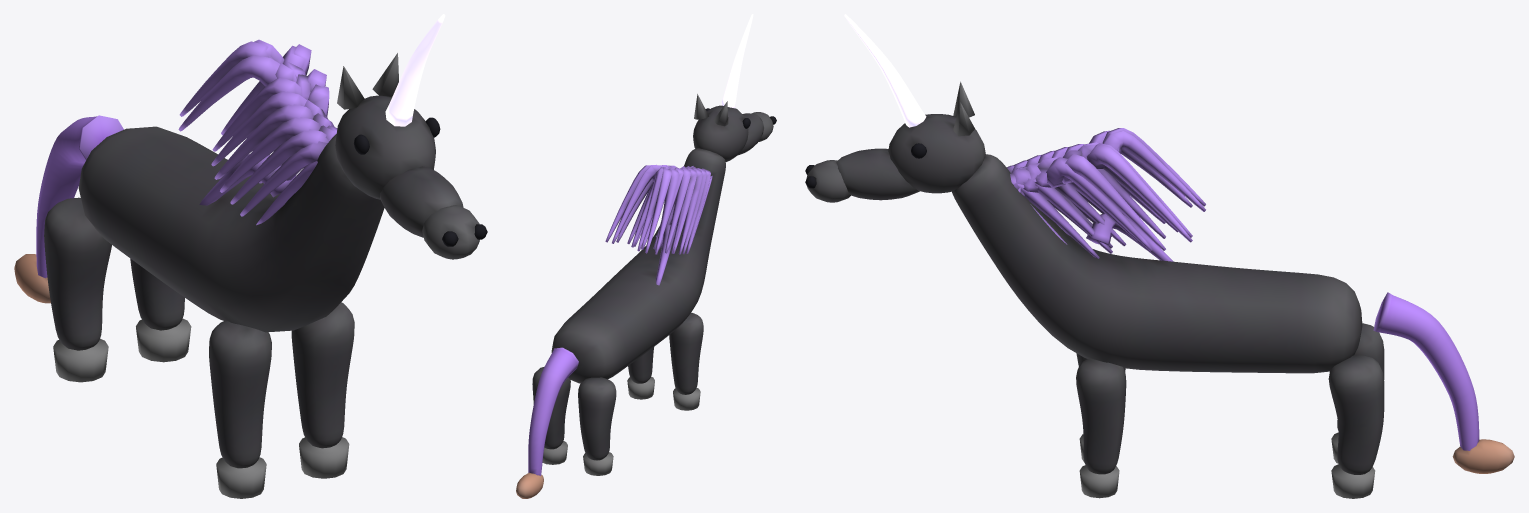
The picture shows the model from 3 angles, left to right: view 1: azimuth 30°, elevation 25°; view 2: azimuth 150°, elevation 25°; view 3: azimuth 270°, elevation 25°; orthographic projection. The views are drawn at different scales.
Parts seen in each view (by area): view 1: torso, head, mane, legBR, legFR, legFL, tail, legBL; view 2: torso, mane, head, tail, legBR, legFR, legBL, legFL; view 3: torso, mane, head, tail, legBL, legFL, legBR.
Boxes of the visible parts, x1,y1,x2,y2 form: torso: (78, 126, 384, 332); head: (335, 14, 487, 259); mane: (178, 39, 337, 225); legBR: (44, 197, 111, 382); legFR: (209, 321, 271, 498); legFL: (291, 302, 354, 478); tail: (14, 115, 123, 303); legBL: (130, 258, 191, 362); torso: (551, 148, 725, 383); mane: (605, 164, 712, 285); head: (693, 14, 776, 161); tail: (516, 347, 578, 498); legBR: (578, 377, 616, 475); legFR: (669, 312, 703, 410); legBL: (532, 366, 570, 464); legFL: (627, 347, 654, 399); torso: (952, 154, 1362, 373); mane: (1007, 128, 1205, 261); head: (805, 14, 985, 202); tail: (1373, 292, 1514, 473); legBL: (1328, 355, 1384, 498); legFL: (1076, 358, 1126, 498); legBR: (1331, 323, 1384, 463).
Bounding box in the file's own units: 0.2924 × 1.15 × 1.6.
